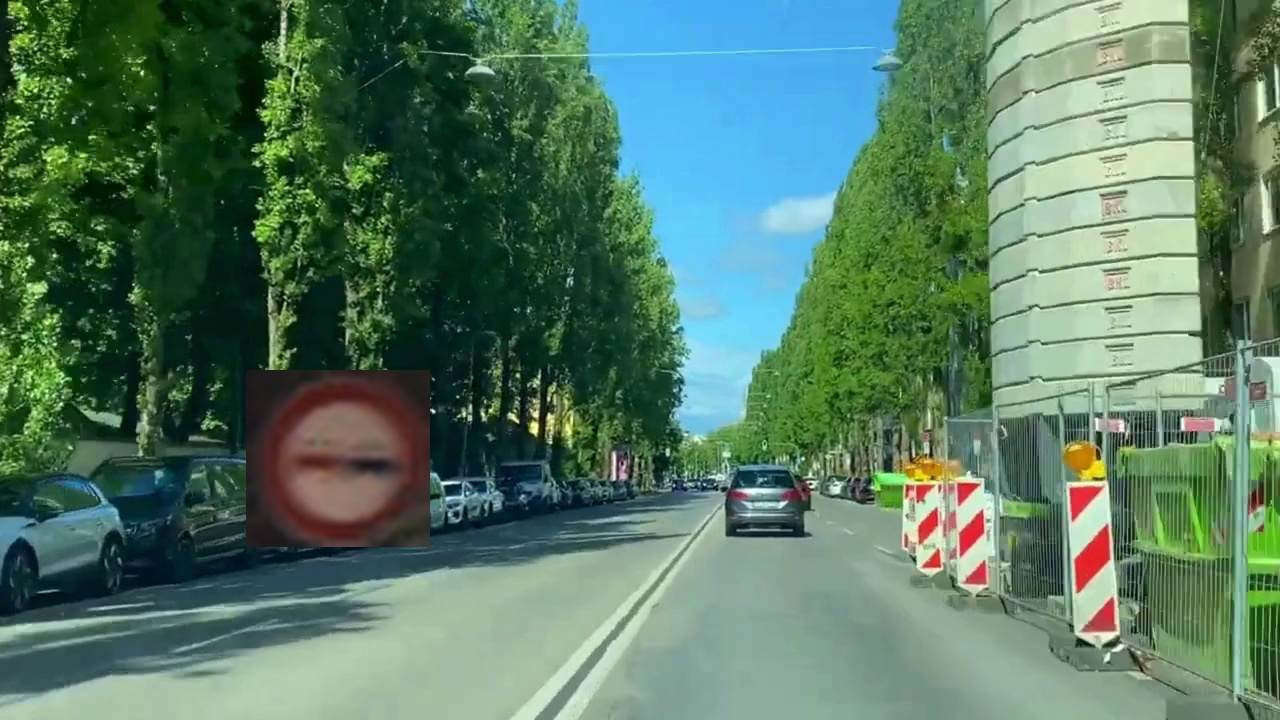No passing: (246, 370, 430, 547)
